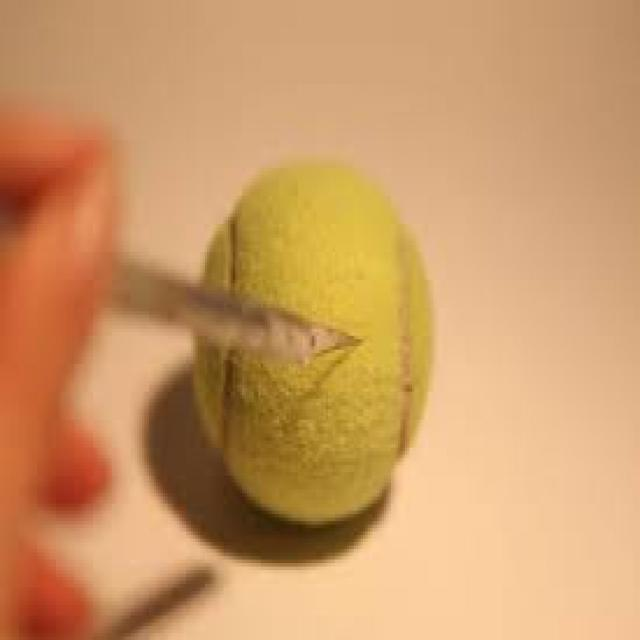Tennis-Ball: (163, 136, 454, 514)
